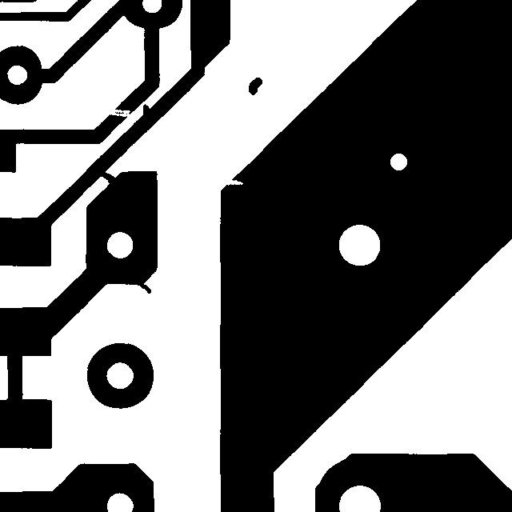copper: (241, 70, 270, 102)
mousebite: (219, 172, 250, 193)
open: (102, 102, 138, 124)
pin-hole: (382, 146, 414, 178)
short: (90, 163, 123, 190)
spur: (120, 272, 158, 301), (135, 96, 158, 123)
